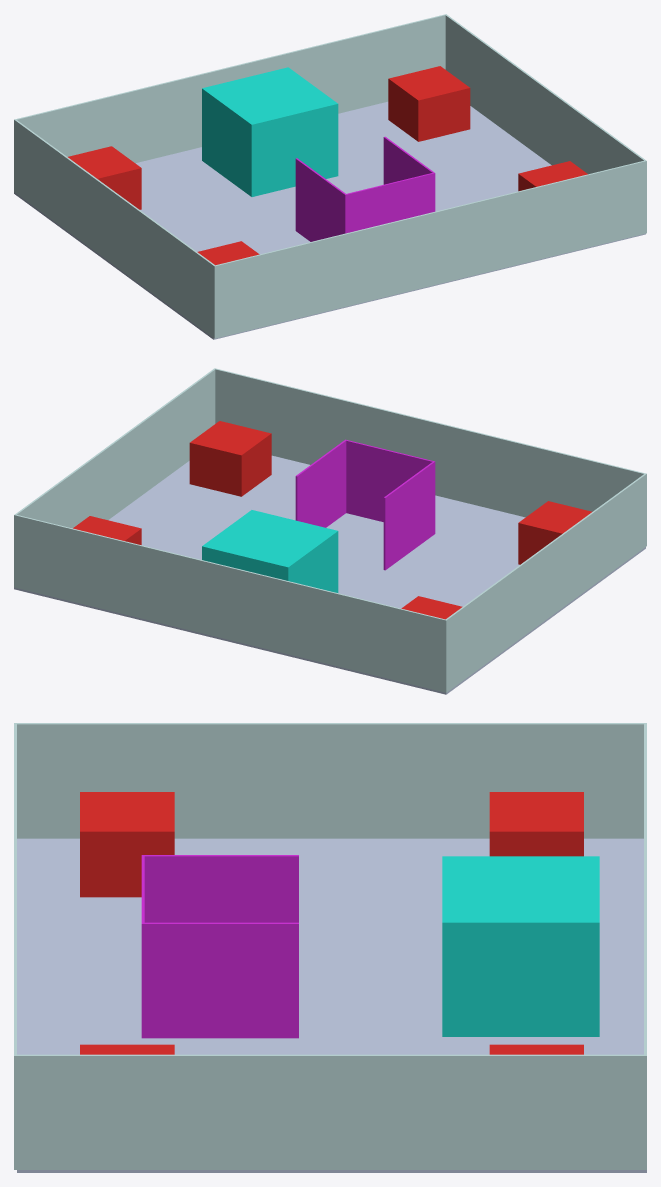
File: Crater.glb
The picture shows the model from 3 angles, top to bottom: view 1: azimuth 30°, elevation 25°; view 2: azimuth 150°, elevation 25°; view 3: azimuth 270°, elevation 25°; orthographic projection. The views are drawn at different scales.
Visible parts, largest first — view 1: Cube.005, Cube.006, Cube.004, Cube, Cube.008, Cube.003, Cube.007, Booth.002, Booth.003, Booth.001, Booth; view 2: Cube.004, Cube.006, Cube.005, Cube, Cube.003, Cube.007, Cube.008, Booth.001, Booth, Booth.002, Booth.003; view 3: Cube.006, Cube.003, Cube, Cube.007, Cube.008, Booth, Booth.003, Cube.005, Cube.004, Booth.001, Booth.002.
Part boxes in pixels (x1,y1,x2,y2): Cube.005: (213, 160, 646, 338); Cube.006: (14, 101, 645, 339); Cube.004: (16, 14, 446, 163); Cube: (14, 119, 214, 337); Cube.008: (202, 67, 338, 196); Cube.003: (445, 14, 645, 174); Cube.007: (295, 136, 435, 241); Booth.002: (388, 66, 470, 141); Booth.003: (68, 146, 141, 209); Booth.001: (518, 161, 587, 191); Booth: (197, 241, 259, 265); Cube.004: (14, 514, 445, 692); Cube.006: (14, 455, 645, 694); Cube.005: (214, 368, 646, 546); Cube: (444, 474, 645, 692); Cube.003: (14, 369, 215, 587); Cube.007: (295, 439, 435, 570); Cube.008: (202, 510, 338, 592); Booth.001: (189, 421, 271, 496); Booth: (518, 501, 592, 564); Booth.002: (73, 516, 141, 544); Booth.003: (401, 596, 462, 619); Cube.006: (17, 838, 646, 1172); Cube.003: (17, 1054, 646, 1169); Cube: (17, 723, 646, 838); Cube.007: (141, 855, 298, 1038); Cube.008: (442, 856, 599, 1036); Booth: (80, 792, 174, 897); Booth.003: (489, 792, 583, 856); Cube.005: (14, 723, 16, 1169); Cube.004: (644, 724, 646, 1169); Booth.001: (80, 1044, 174, 1054); Booth.002: (489, 1044, 583, 1054).
Bounding box in the file's own units: 25 × 4.1 × 20.1.
